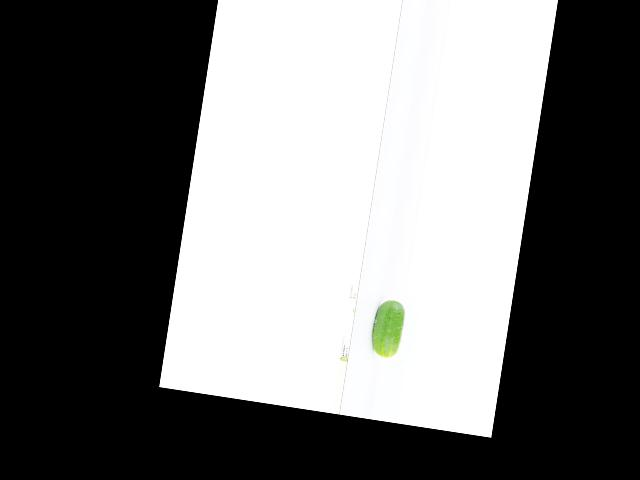cucumber: (369, 297, 406, 358)
